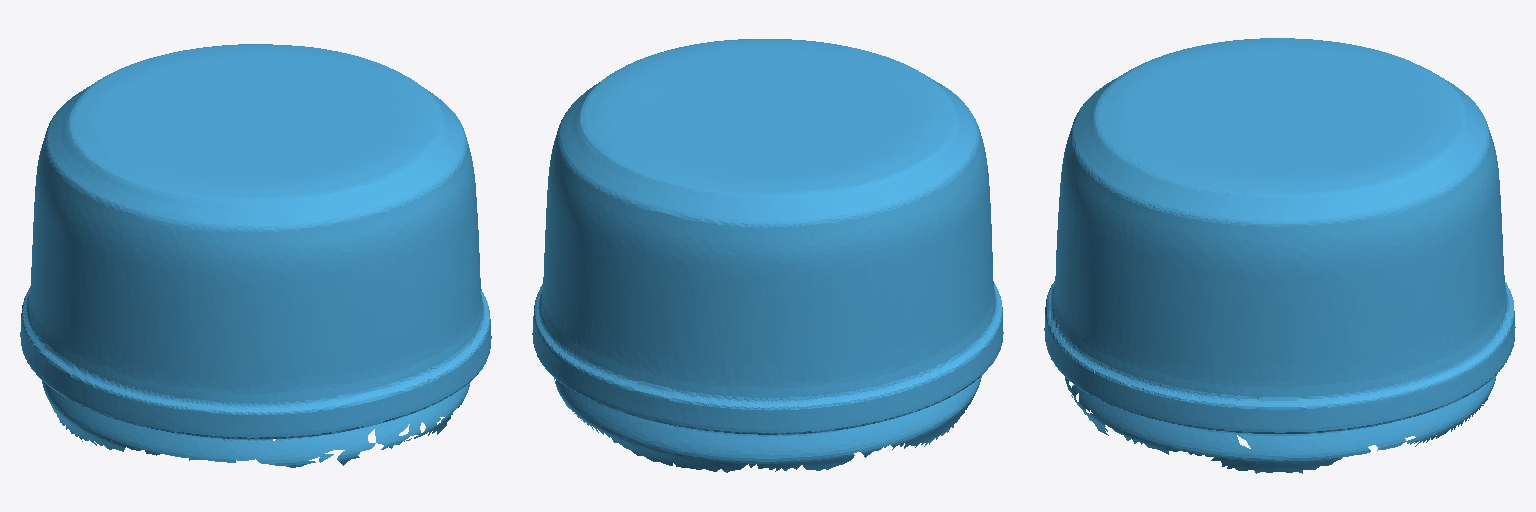
robot.urdf — bottle_00:
<?xml version='1.0' encoding='utf-8'?>
<robot name="bottle_00">
  <link name="l_0">
    <visual>
      <origin xyz="0 0 0" rpy="0 0 0" />
      <geometry>
        <mesh filename="./bottle_00_objs/0/0.obj" />
      </geometry>
    </visual>
    <collision>
      <origin xyz="0 0 0" rpy="0 0 0" />
      <geometry>
        <mesh filename="./bottle_00_objs/0/0.obj" />
      </geometry>
    </collision>
  </link>
  <link name="l_1">
    <visual>
      <origin xyz="0.0025000000000000044 0.007500000000000008 0.0025000000000000044" rpy="0 0 0" />
      <geometry>
        <mesh filename="./bottle_00_objs/1/1.obj" />
      </geometry>
    </visual>
    <collision>
      <origin xyz="0.0025000000000000044 0.007500000000000008 0.0025000000000000044" rpy="0 0 0" />
      <geometry>
        <mesh filename="./bottle_00_objs/1/1.obj" />
      </geometry>
    </collision>
  </link>
  <joint name="j_1" type="revolute">
    <parent link="l_0" />
    <child link="l_1" />
    <origin xyz="-0.0025000000000000044 -0.007500000000000008 -0.0025000000000000044" rpy="0 0 0" />
    <axis xyz="0.0 0.0 1.0" />
    <limit lower="-3.0788" upper="3.1416" effort="10" velocity="10" />
  </joint>
</robot>

--- What the picture shows (computed from the rendered views, not written in the file) ---
Views: 3 orthographic renders of the robot side by side, from view 1: azimuth 30°, elevation 25°; view 2: azimuth 150°, elevation 25°; view 3: azimuth 270°, elevation 25°.
Robot: bottle_00 — 2 links, 1 joints (1 revolute); root link l_0; default pose: every joint at zero.
Links seen in each view (by area): view 1: l_1; view 2: l_1; view 3: l_1.
Boxes of the visible links, left/top/right/bottom form: l_1: left=20, top=44, right=491, bottom=467; l_1: left=532, top=39, right=1003, bottom=472; l_1: left=1044, top=38, right=1515, bottom=473.
Bounding box of the posed robot: 0.1394 × 0.1392 × 0.0902 m (x, y, z).
1 mesh visuals loaded from 2 distinct referenced files (1 OBJ); not drawn: 1 (reference not matched to a file when rendering).
